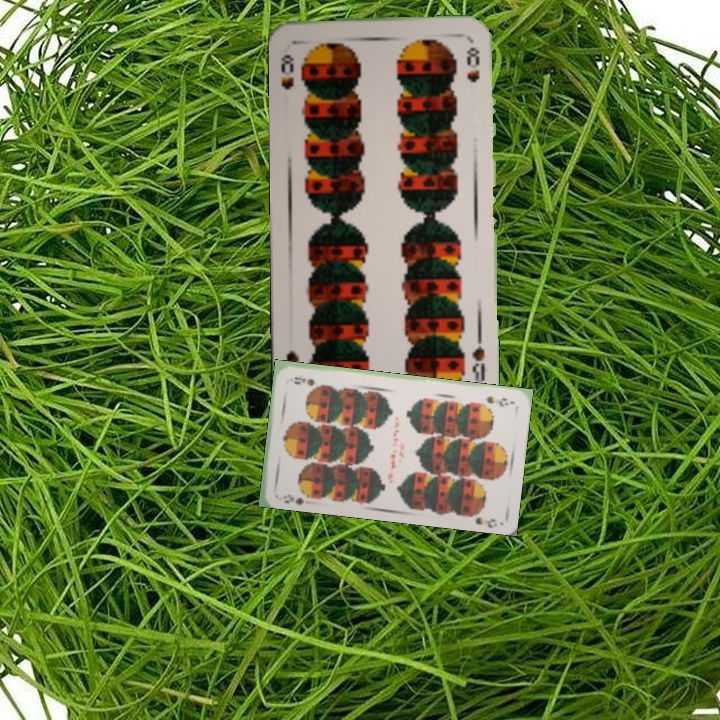S8: (468, 330, 488, 387), (277, 50, 296, 92)
S9: (279, 487, 315, 506), (481, 392, 516, 408)
